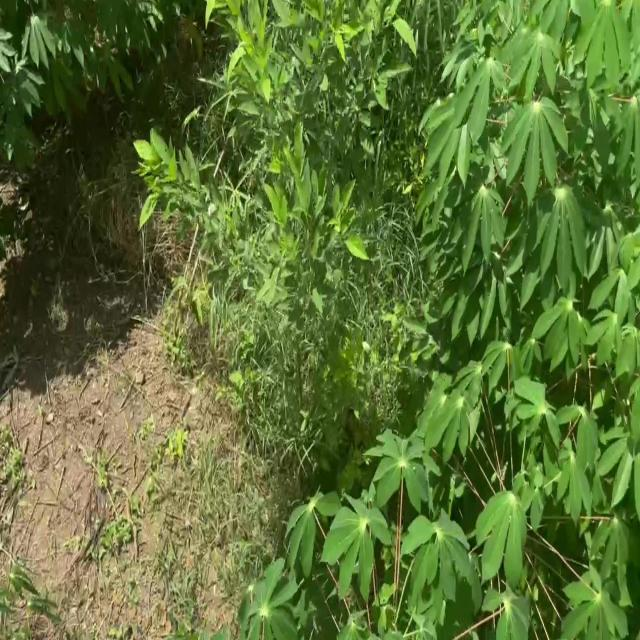Maleza: (129, 120, 407, 387), (201, 2, 405, 159), (227, 292, 369, 471)
Mosca: (409, 462, 418, 472), (458, 242, 467, 252)
